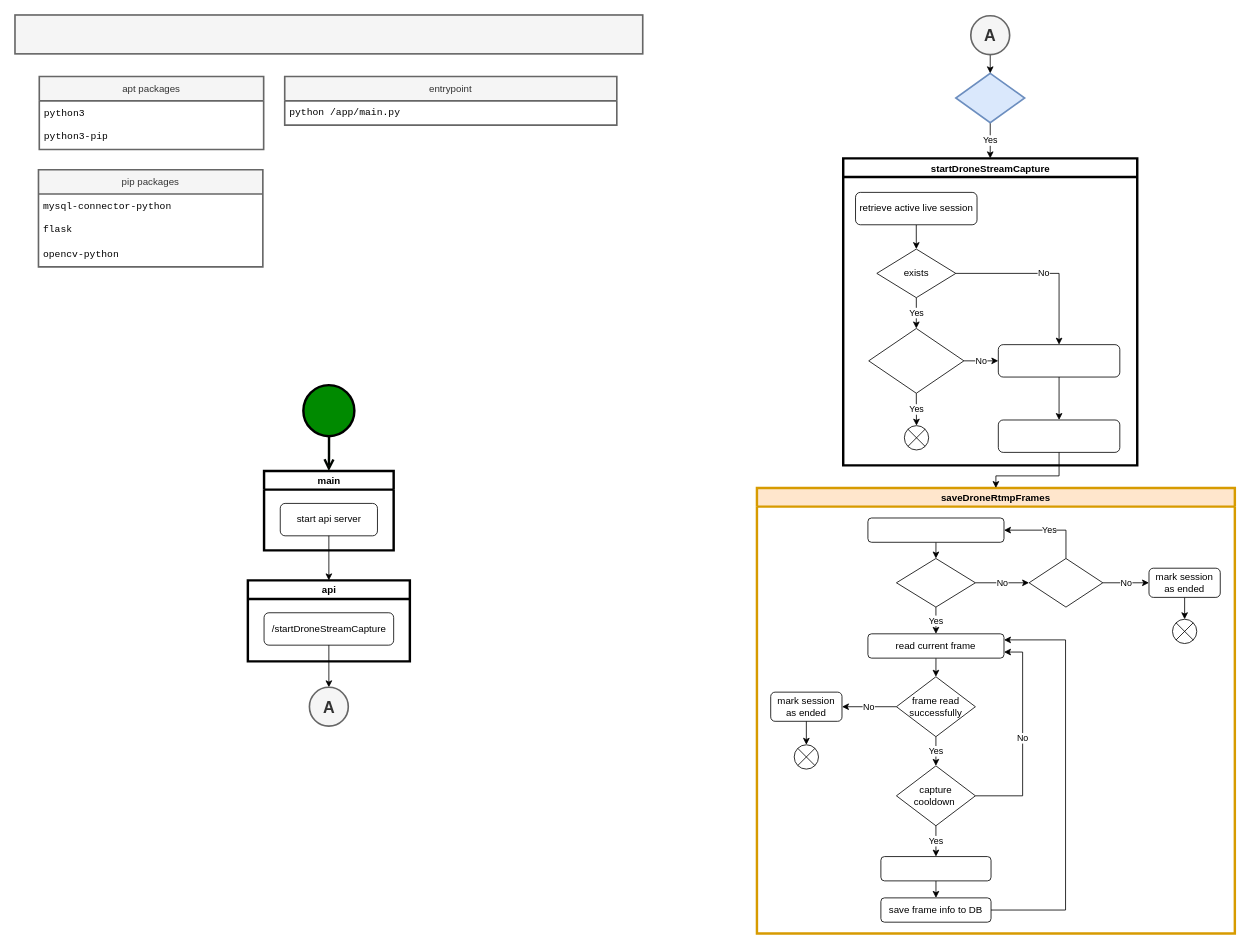
The diagram is 1250 pixels wide and 949 high, and some of its shapes have lost their labels. Each missing label, with the centre of its shape:
"connect to RTMP stream" belongs at point 935,529.
"deactivate sessions and create new" belongs at point 1059,360.
"LSC Container" belongs at point 328,34.
"request received" belongs at point 990,97.
"retries remaining" belongs at point 1065,582.
"save frame to HDD" belongs at point 935,868.
"start stream capture" belongs at point 1059,435.
"success" belongs at point 935,582.
"thread already running" belongs at point 916,360.
